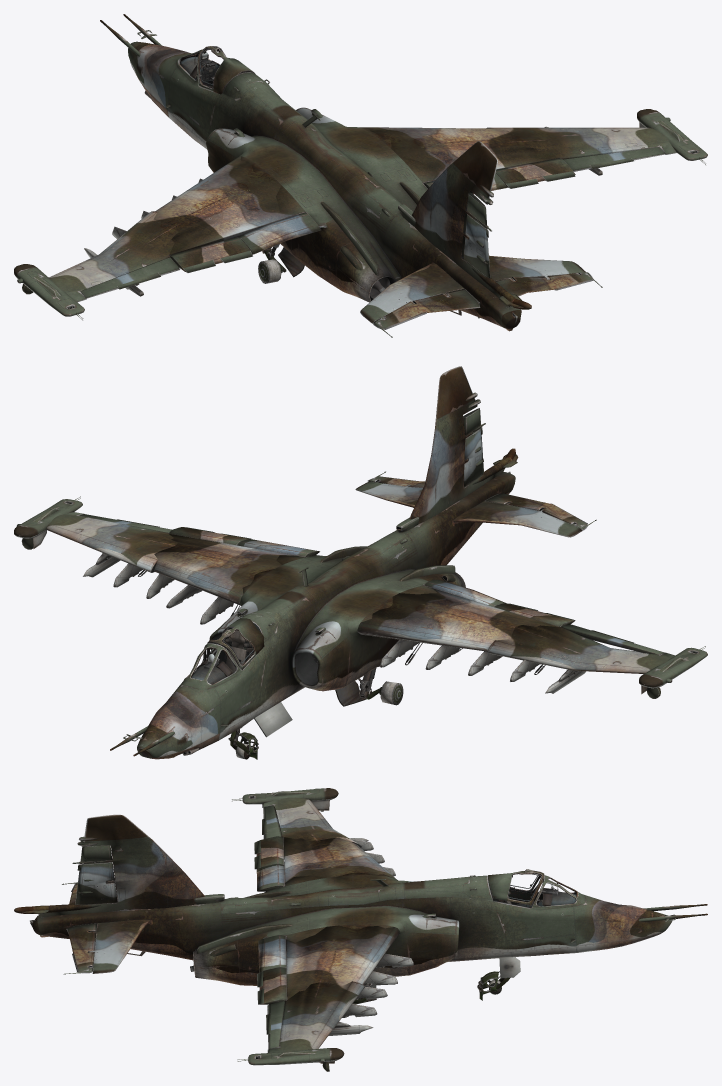
The picture shows the model from 3 angles, top to bottom: view 1: azimuth 30°, elevation 25°; view 2: azimuth 150°, elevation 25°; view 3: azimuth 270°, elevation 25°; orthographic projection. The views are drawn at different scales.
Parts seen in each view (by area): view 1: Object_4, Object_3; view 2: Object_4, Object_3; view 3: Object_4, Object_3.
Boxes of the visible parts, box(x1,y1,x2,y2) form: Object_4: box(100, 14, 585, 331); Object_3: box(14, 46, 707, 337); Object_4: box(110, 366, 582, 759); Object_3: box(14, 408, 707, 759); Object_4: box(14, 814, 707, 1004); Object_3: box(62, 788, 544, 1071).
Size of the model in its own units: 293 by 96.67 by 316.
Materials: 2 (2 with a texture image).
